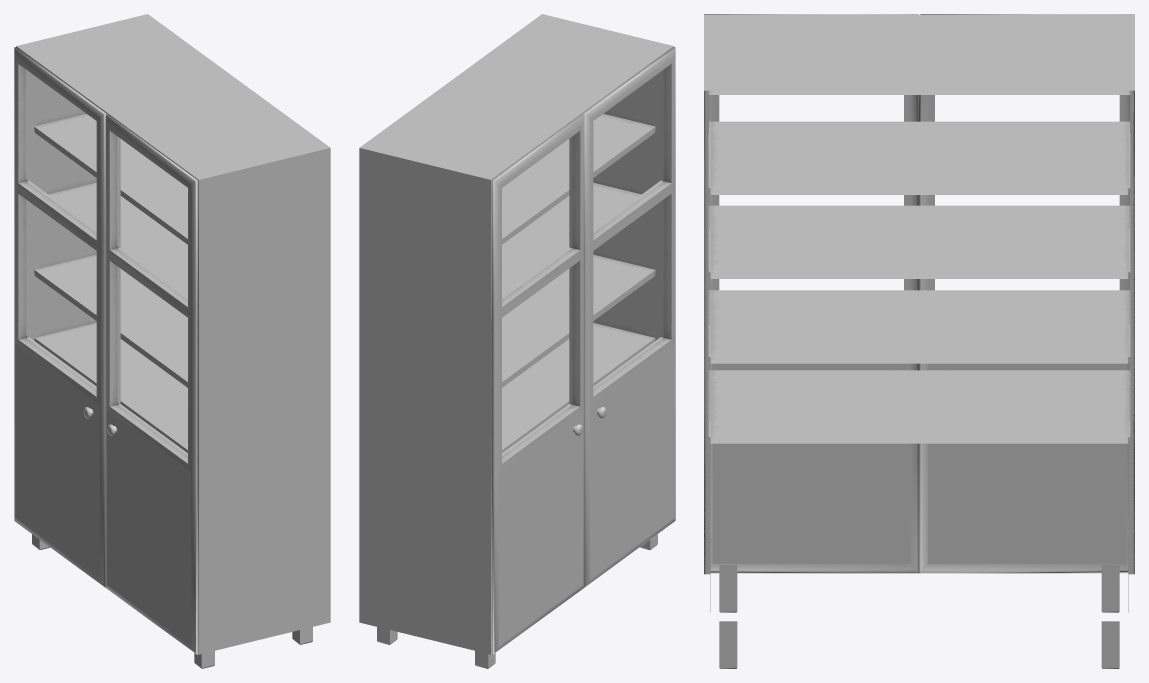
The model's file is case.fbx.
3 views of the same model, side by side, from view 1: azimuth 30°, elevation 25°; view 2: azimuth 150°, elevation 25°; view 3: azimuth 270°, elevation 25° (orthographic). The views are drawn at different scales.
Parts seen in each view (by area): view 1: case; view 2: case; view 3: case.
Boxes of the visible parts, x1,y1,x2,y2 form: case: (14,14,330,668); case: (359,14,675,668); case: (704,14,1134,668).
Size of the model in its own units: 51.08 by 171 by 114.
